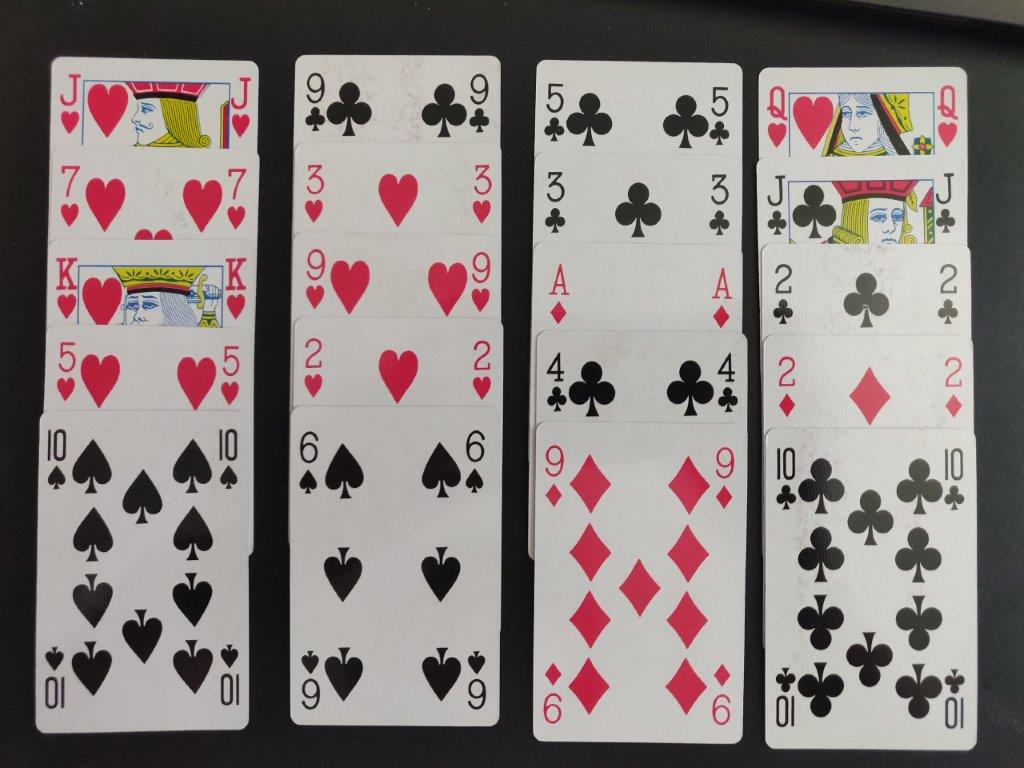10C: (770, 442, 801, 516), (938, 442, 969, 514)
10S: (213, 421, 245, 495), (42, 422, 70, 495)
2C: (931, 257, 963, 329), (769, 259, 800, 331)
2D: (770, 352, 805, 421), (937, 353, 968, 421)
2H: (465, 333, 497, 407), (298, 332, 327, 407)
3C: (540, 167, 572, 243), (704, 168, 737, 241)
3H: (300, 160, 329, 226), (469, 160, 496, 230)
4C: (542, 347, 571, 417), (716, 348, 741, 418)
5C: (540, 76, 570, 151), (705, 80, 735, 153)
5H: (54, 336, 79, 405), (219, 341, 242, 409)
6S: (292, 426, 323, 499), (462, 424, 490, 499)
7H: (54, 158, 85, 234), (223, 163, 251, 233)
9C: (463, 68, 495, 138), (298, 68, 330, 137)
9D: (538, 441, 569, 513), (708, 442, 739, 513)
9H: (300, 245, 331, 316), (469, 248, 496, 321)
AD: (542, 257, 577, 333), (705, 260, 736, 332)
JC: (932, 168, 961, 239), (763, 169, 790, 241)
JH: (52, 67, 88, 141), (227, 72, 258, 144)
KH: (50, 252, 82, 324), (220, 253, 250, 329)
QH: (932, 79, 965, 153), (762, 80, 791, 152)
